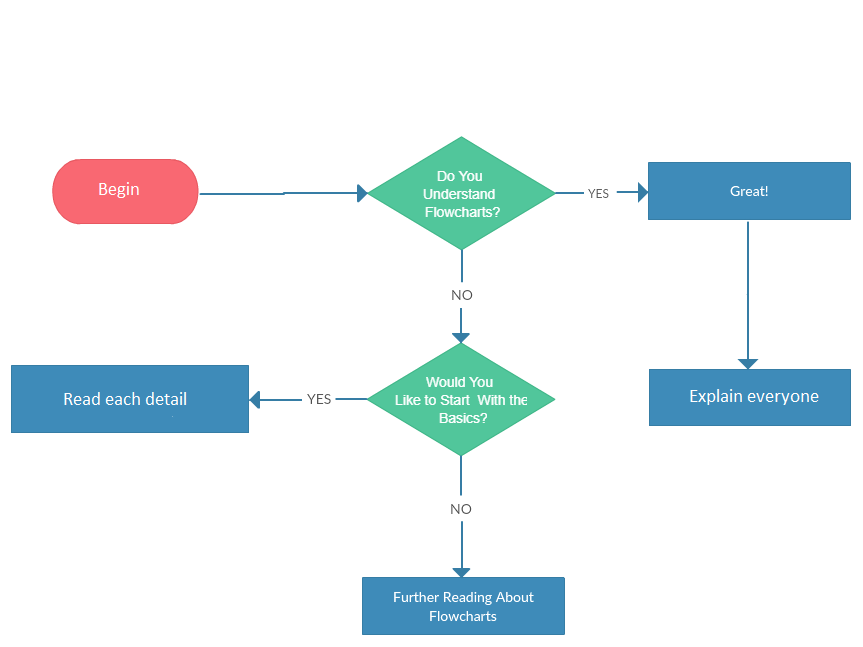arrow: (197, 181, 368, 204), (736, 220, 760, 371), (451, 454, 473, 579), (553, 179, 651, 206), (247, 387, 370, 408), (450, 245, 471, 346)
decision: (362, 135, 562, 253), (366, 341, 557, 460)
process: (8, 361, 254, 435), (644, 157, 853, 223), (360, 574, 567, 638), (645, 366, 855, 428)
terminator: (49, 157, 201, 225)
text: (392, 375, 531, 426), (391, 590, 537, 623), (421, 168, 503, 220), (686, 386, 820, 406), (61, 390, 188, 407), (94, 181, 142, 199), (726, 183, 771, 199), (304, 389, 336, 406), (448, 287, 473, 304), (448, 500, 473, 517), (585, 184, 610, 199)
